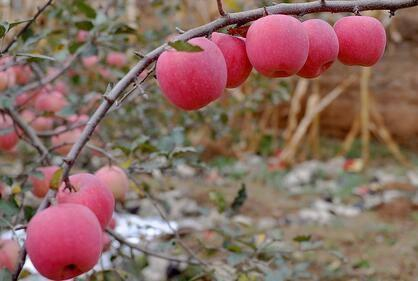apple: (26, 204, 103, 279), (154, 38, 227, 113), (245, 14, 308, 78), (57, 173, 113, 228), (332, 13, 386, 67), (299, 18, 340, 76), (212, 33, 253, 87)
